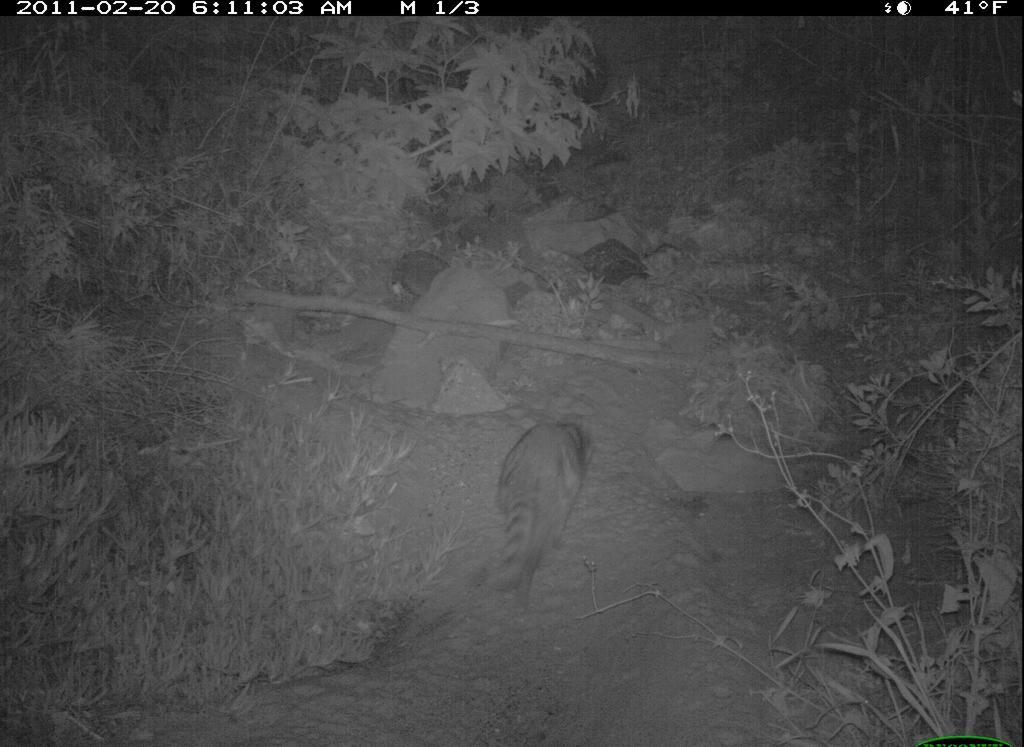raccoon: (460, 397, 624, 607)
